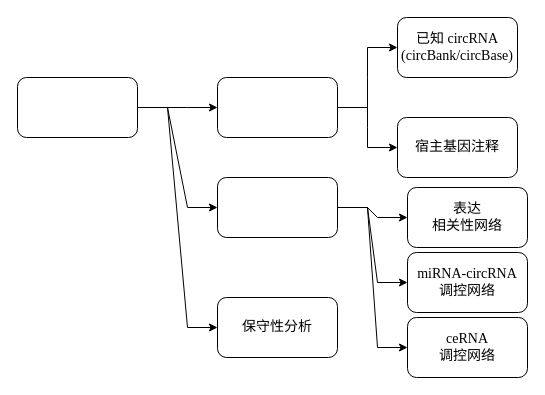
The diagram is 545 pixels wide and 395 high, and some of its shapes have lost their labels. Each missing label, with the box of its shape:
circRNA: (16, 76, 138, 138)
互作网络: (216, 176, 338, 238)
数据库注释: (216, 76, 338, 138)
